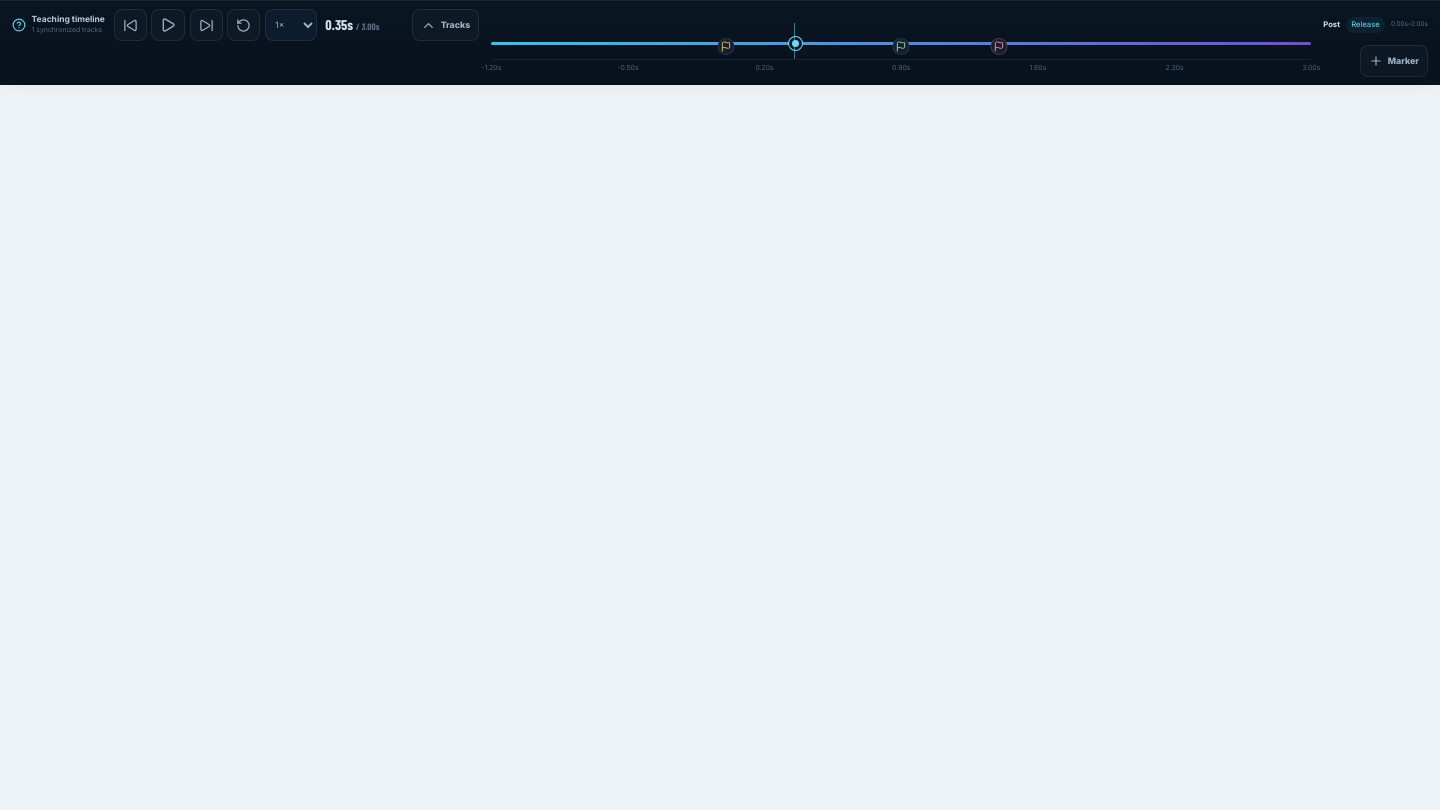
DesignerTimeline › renders synchronized events as timing lanes beside assignment tracks
Click the button "Tracks": x=446, y=25 top-left (412, 9), bottom-right (479, 41)
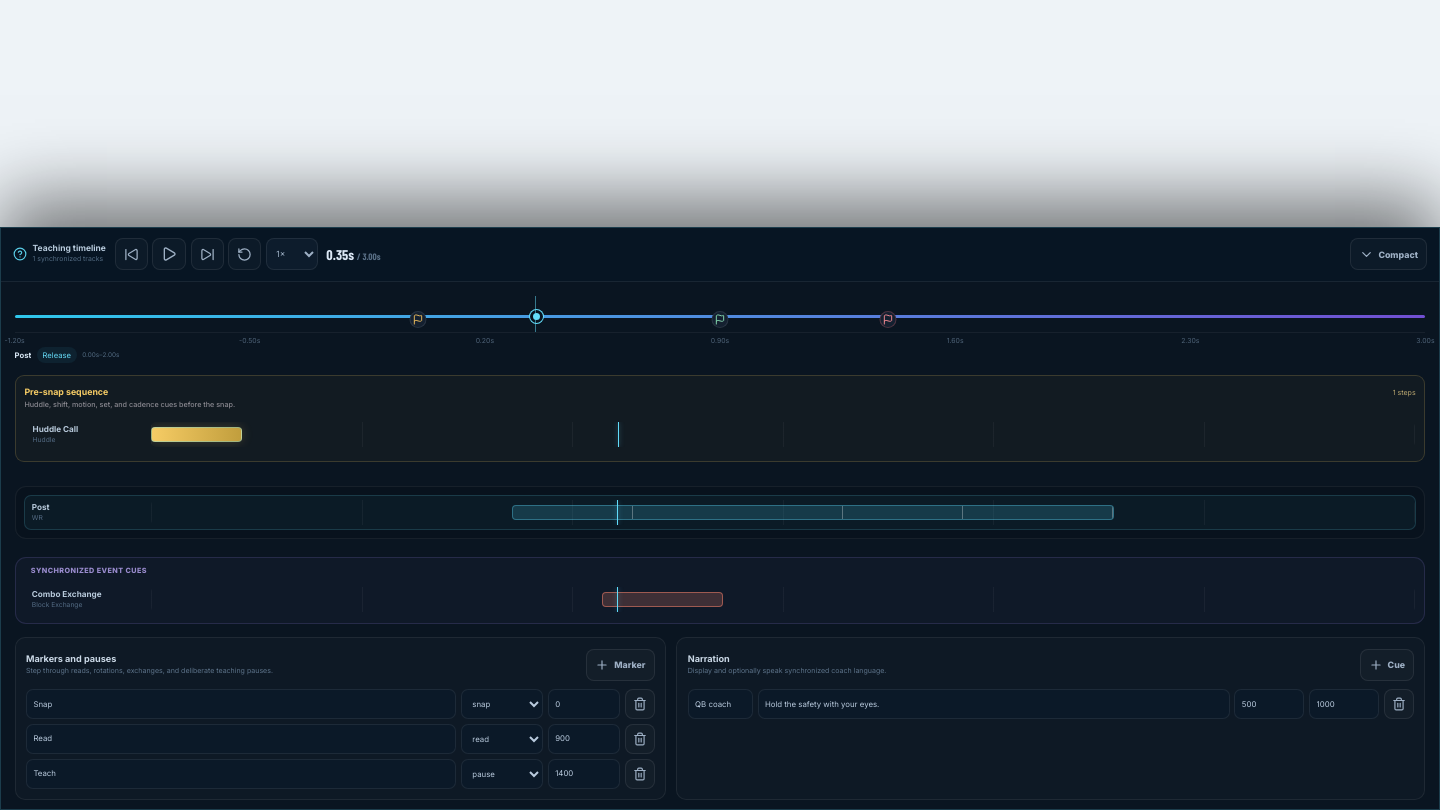
expect the element named "Synchronized event timing tracks" is shown: met, box top-left (15, 557), bottom-right (1425, 624)
expect the button named "Jump to Combo exchange event" is shown: met, box top-left (151, 587), bottom-right (1415, 612)
